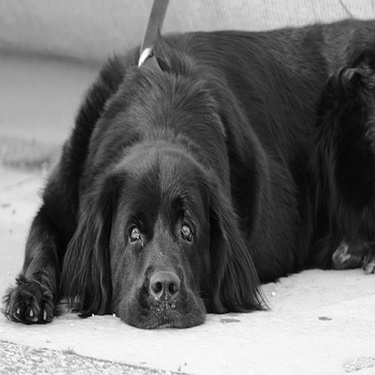dog: (2, 1, 373, 334)
